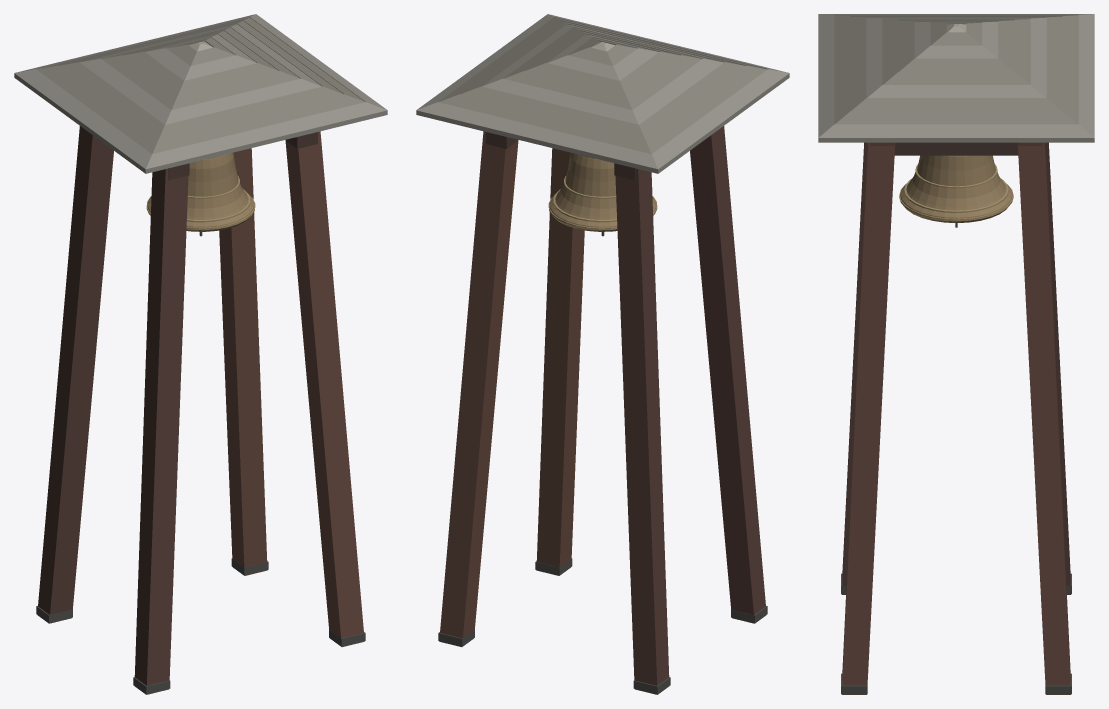
Rendered from pudong-yangjing-school-historic-bell-pavilion-lod.glb.
The picture shows the model from 3 angles, left to right: view 1: azimuth 30°, elevation 25°; view 2: azimuth 150°, elevation 25°; view 3: azimuth 270°, elevation 25°; orthographic projection. The views are drawn at different scales.
Parts seen in each view (by area): view 1: 洋泾中学旧办公楼前四柱钟亭与铜校钟; view 2: 洋泾中学旧办公楼前四柱钟亭与铜校钟; view 3: 洋泾中学旧办公楼前四柱钟亭与铜校钟.
Part boxes in pixels (box(x1,y1,x2,y2)): 洋泾中学旧办公楼前四柱钟亭与铜校钟: box(14, 14, 387, 694); 洋泾中学旧办公楼前四柱钟亭与铜校钟: box(416, 14, 789, 694); 洋泾中学旧办公楼前四柱钟亭与铜校钟: box(818, 14, 1094, 694).
Size of the model in its own units: 1.16 by 2.69 by 1.1.
